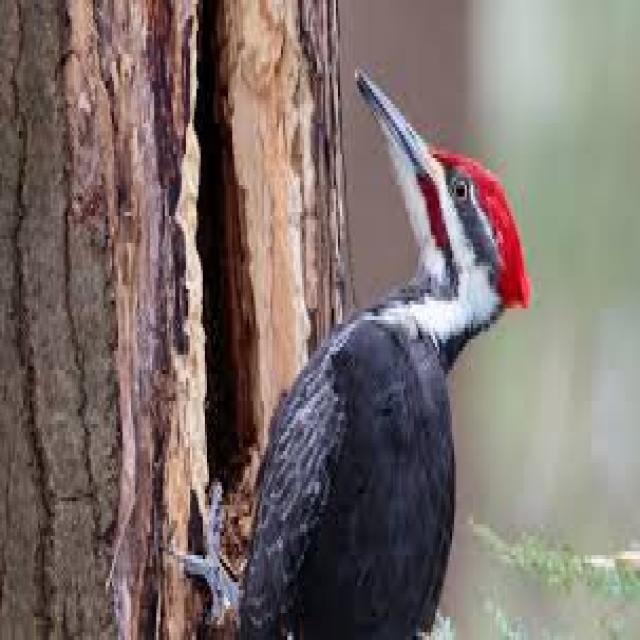Woodpecker: (235, 52, 530, 640)
